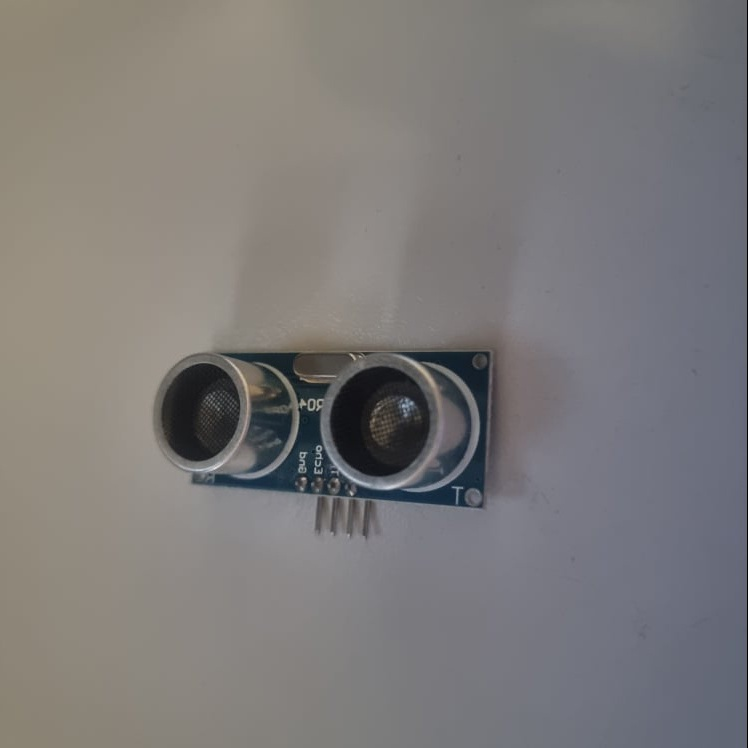SENSOR: (153, 344, 495, 541)
